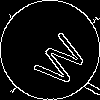W: (25, 25, 90, 91)
